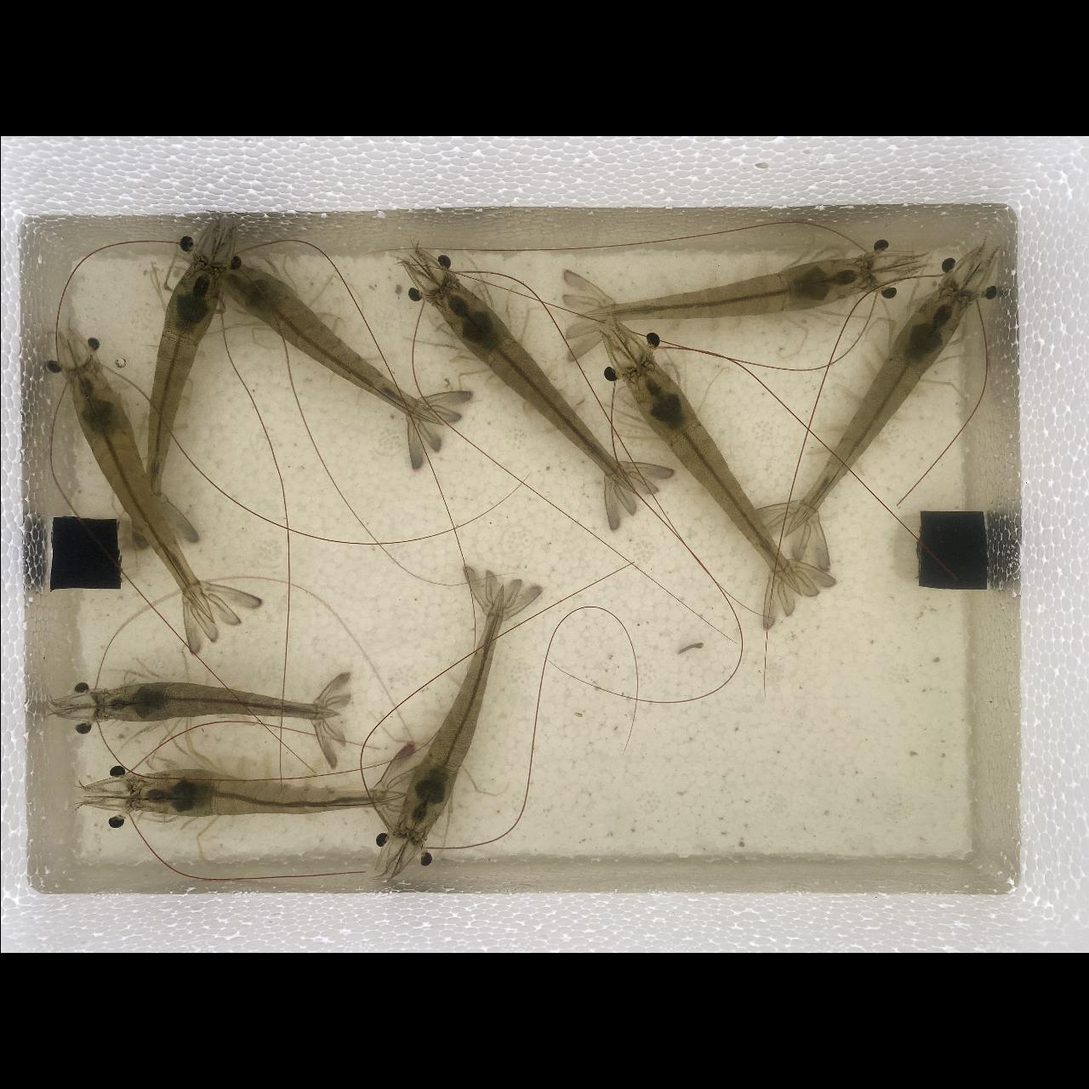box: (917, 510, 989, 589), (51, 517, 121, 589)
top_shrimp: (790, 289, 966, 527), (436, 282, 633, 488), (628, 362, 796, 585), (214, 260, 434, 420), (73, 368, 211, 618), (403, 596, 504, 835), (142, 269, 221, 523), (582, 259, 871, 320), (133, 773, 393, 813), (99, 684, 332, 720)
